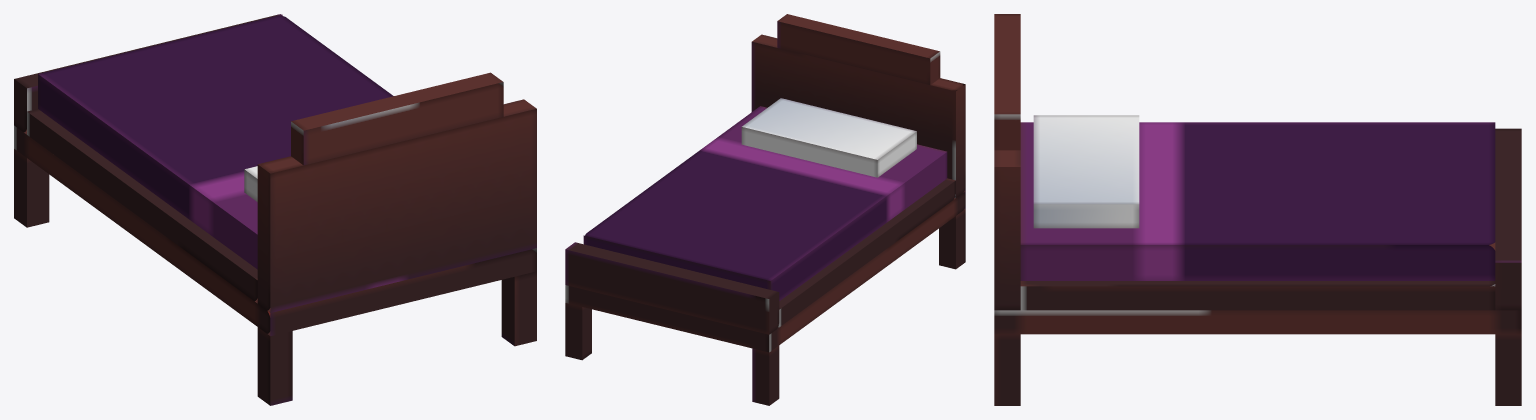
The model's file is Bed.fbx.
The picture shows the model from 3 angles, left to right: view 1: azimuth 30°, elevation 25°; view 2: azimuth 150°, elevation 25°; view 3: azimuth 270°, elevation 25°; orthographic projection. The views are drawn at different scales.
Visible parts, largest first — view 1: mattress, cube_6, cube_4, cube_7, cube_8, cube_2, cube_3, cube, cube_5; view 2: mattress, cube_6, cube_5, pillow, cube_4, cube_7, cube_8, cube, cube_1, cube_2; view 3: mattress, cube_9, cube_4, pillow, cube_5, cube_6, cube_7, cube_1, cube_3.
Boxes of the visible parts, box(x1,y1,x2,y2) form: mattress: box(38, 14, 393, 269); cube_6: box(257, 99, 536, 312); cube_4: box(14, 125, 536, 336); cube_7: box(291, 72, 503, 165); cube_8: box(27, 109, 257, 301); cube_2: box(257, 327, 292, 405); cube_3: box(501, 271, 536, 346); cube: box(14, 149, 49, 227); cube_5: box(14, 14, 282, 132); mattress: box(583, 106, 947, 300); cube_6: box(751, 34, 965, 197); cube_5: box(565, 242, 779, 334); pillow: box(741, 98, 916, 177); cube_4: box(565, 191, 965, 352); cube_7: box(777, 14, 940, 84); cube_8: box(779, 178, 955, 326); cube: box(752, 345, 779, 405); cube_1: box(565, 303, 591, 360); cube_2: box(939, 208, 965, 269); mattress: box(1020, 122, 1495, 286); cube_9: box(1020, 281, 1495, 310); cube_4: box(994, 242, 1521, 334); pillow: box(1033, 115, 1139, 228); cube_5: box(1495, 128, 1521, 310); cube_6: box(994, 150, 1020, 310); cube_7: box(994, 14, 1020, 150); cube_1: box(1495, 334, 1521, 405); cube_3: box(994, 334, 1020, 405).
Bounding box in the file's own units: 150 × 144 × 250.
1 material, 1 textured.
